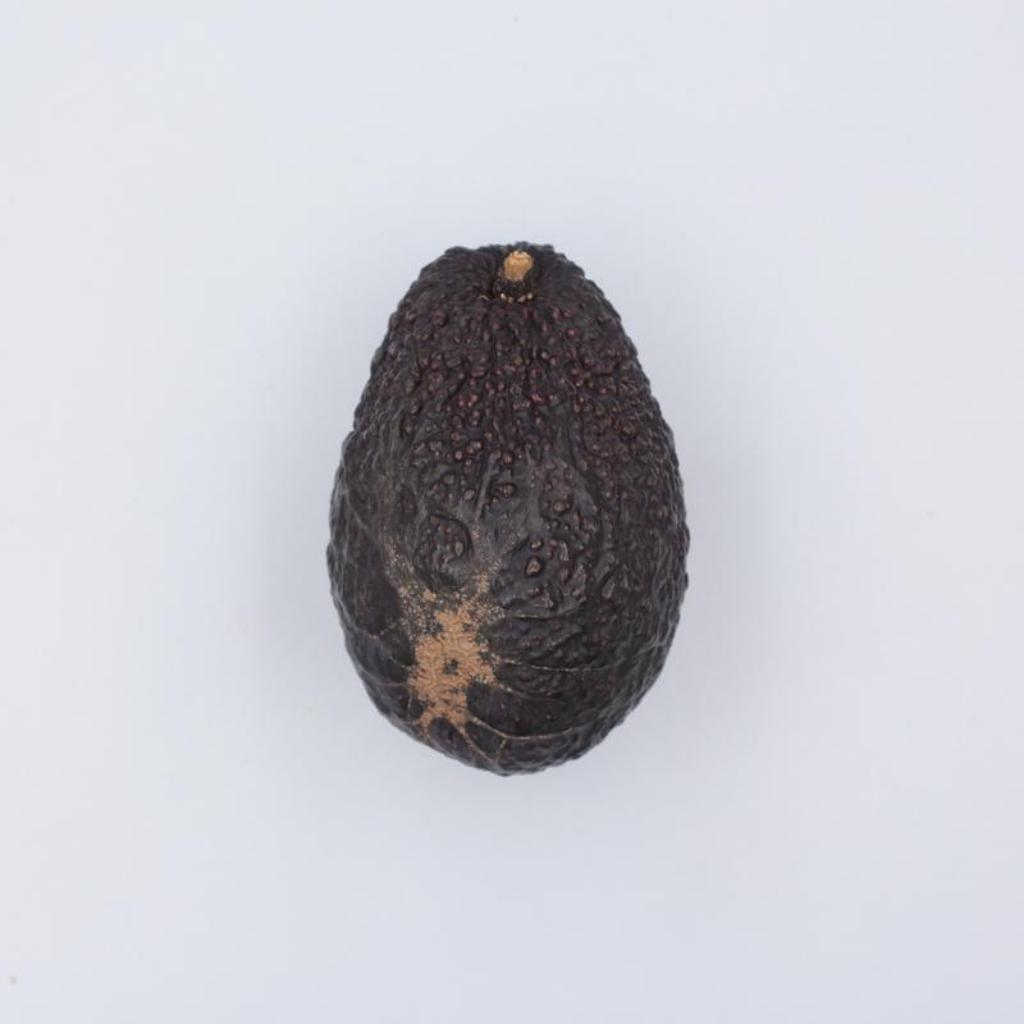rona: (326, 246, 689, 774)
